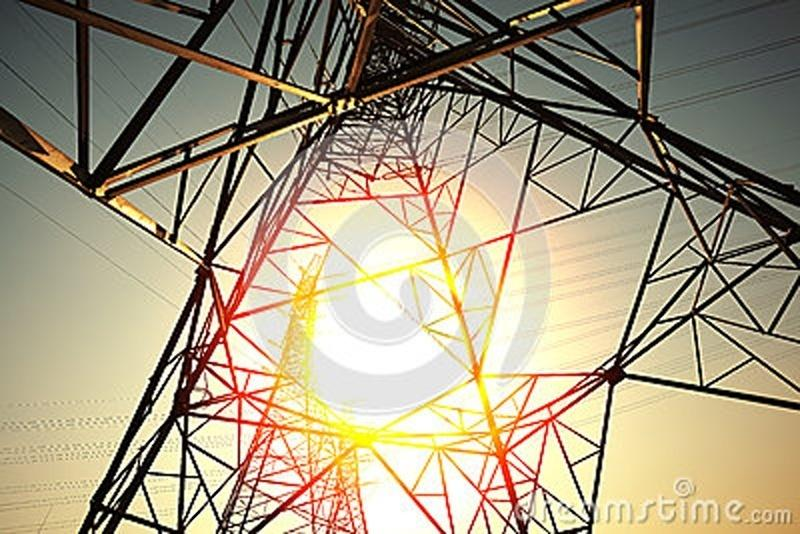power_tower: (12, 4, 790, 516)
